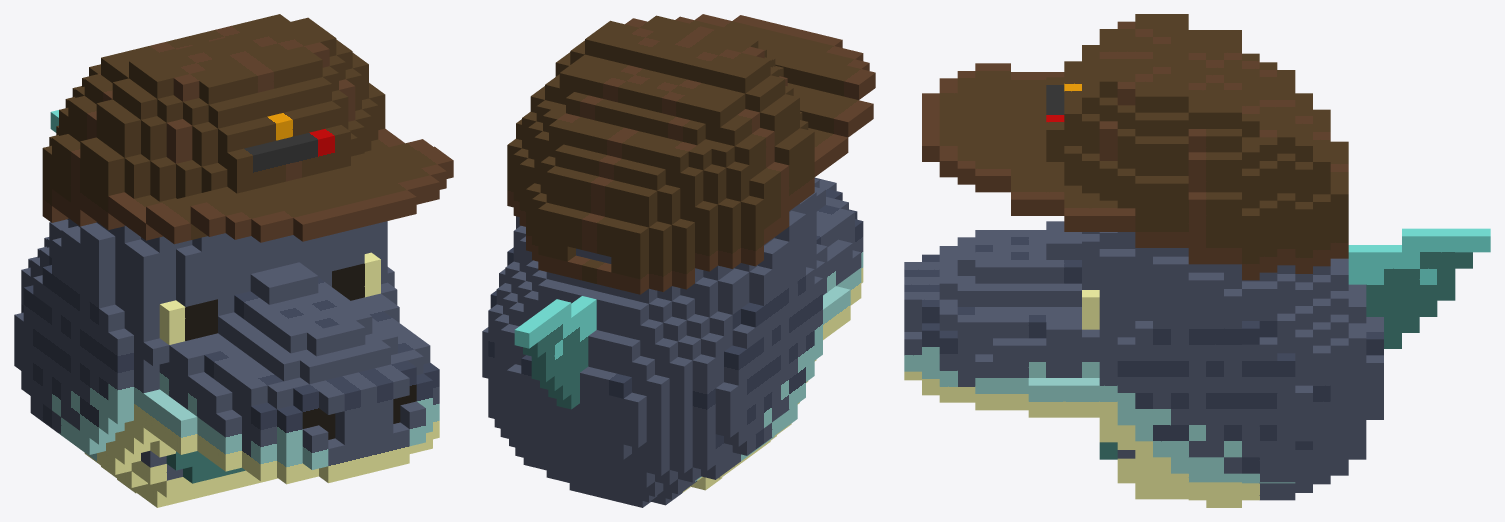
File: wsb hat_lazer light.gltf
3 renders of one model, left to right at view 1: azimuth 30°, elevation 25°; view 2: azimuth 150°, elevation 25°; view 3: azimuth 270°, elevation 25°, orthographic. The views are drawn at different scales.
Parts seen in each view (by area): view 1: C61_H_WSB_RedG_RBSpec_SkyD_LazerL_VRGg-Mesh; view 2: C61_H_WSB_RedG_RBSpec_SkyD_LazerL_VRGg-Mesh; view 3: C61_H_WSB_RedG_RBSpec_SkyD_LazerL_VRGg-Mesh.
Boxes of the visible parts, x1=… form: C61_H_WSB_RedG_RBSpec_SkyD_LazerL_VRGg-Mesh: x1=14, y1=14, x2=453, y2=507; C61_H_WSB_RedG_RBSpec_SkyD_LazerL_VRGg-Mesh: x1=482, y1=14, x2=875, y2=507; C61_H_WSB_RedG_RBSpec_SkyD_LazerL_VRGg-Mesh: x1=904, y1=14, x2=1490, y2=507.
Size of the model in its own units: 17 by 26 by 33.
Materials: 1 (1 with a texture image).
